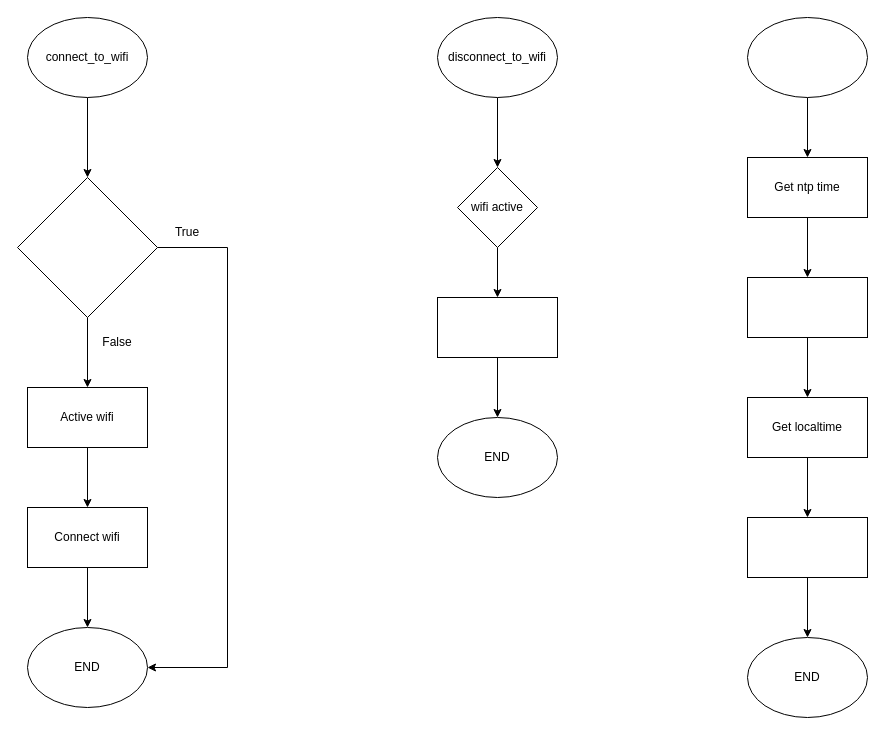
Some shapes in this 885 by 735 pixel diagram are drawn without their labels. Each missing label, with the centre of its shape:
"Add offset in seconds" goes at [807,307].
"set_hour" goes at [807,57].
"Update rtc datetime" goes at [807,547].
"wifi connected" goes at [87,247].
"wifi deactive" goes at [497,327].
